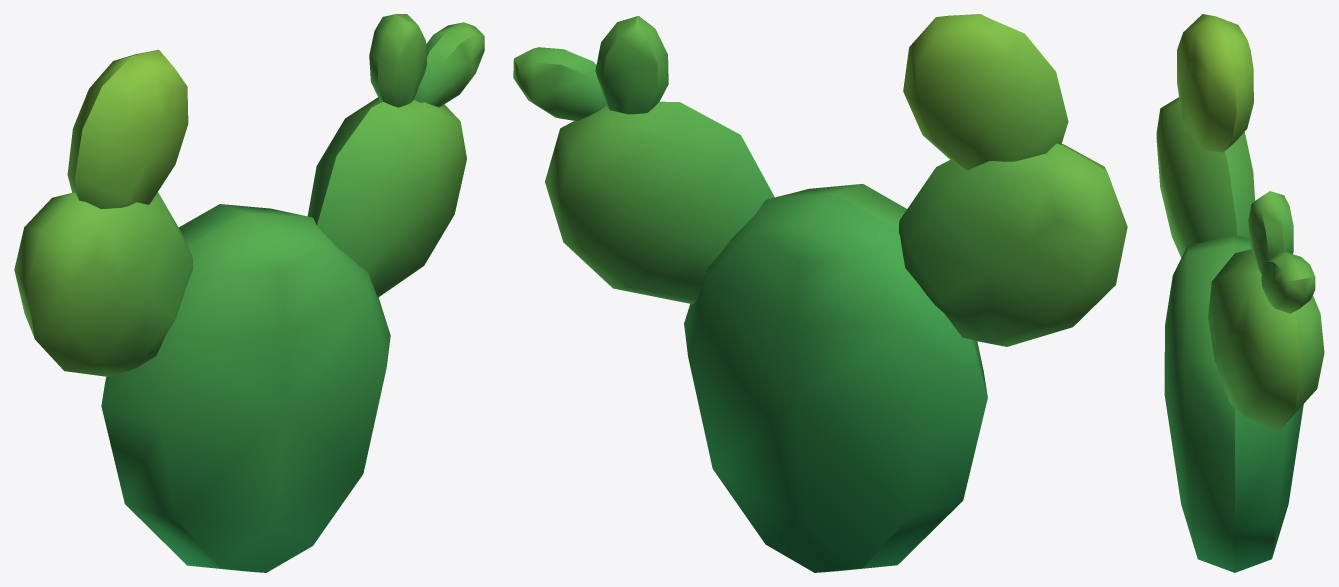
Rendered from cactus_D.glb.
The picture shows the model from 3 angles, left to right: view 1: azimuth 30°, elevation 25°; view 2: azimuth 150°, elevation 25°; view 3: azimuth 270°, elevation 25°; orthographic projection. The views are drawn at different scales.
Parts seen in each view (by area): view 1: cactus_D; view 2: cactus_D; view 3: cactus_D.
Part boxes in pixels (<box>): cactus_D: <box>14,14,484,572</box>; cactus_D: <box>513,14,1127,572</box>; cactus_D: <box>1156,14,1324,572</box>.
Size of the model in its own units: 0.517 by 0.5289 by 0.1629.
1 material, 1 textured.
